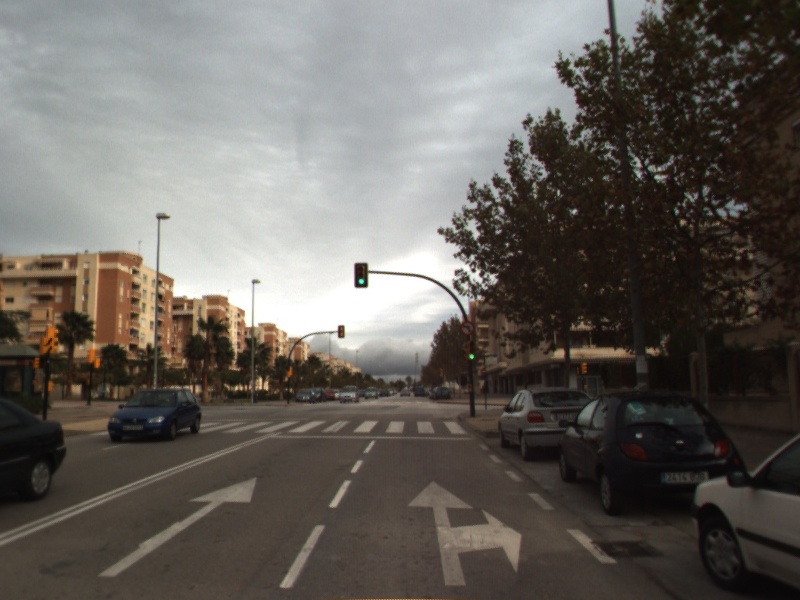STRAIGHT: (95, 476, 258, 579)
STRAIGHT_RIGHT: (405, 478, 524, 588)
